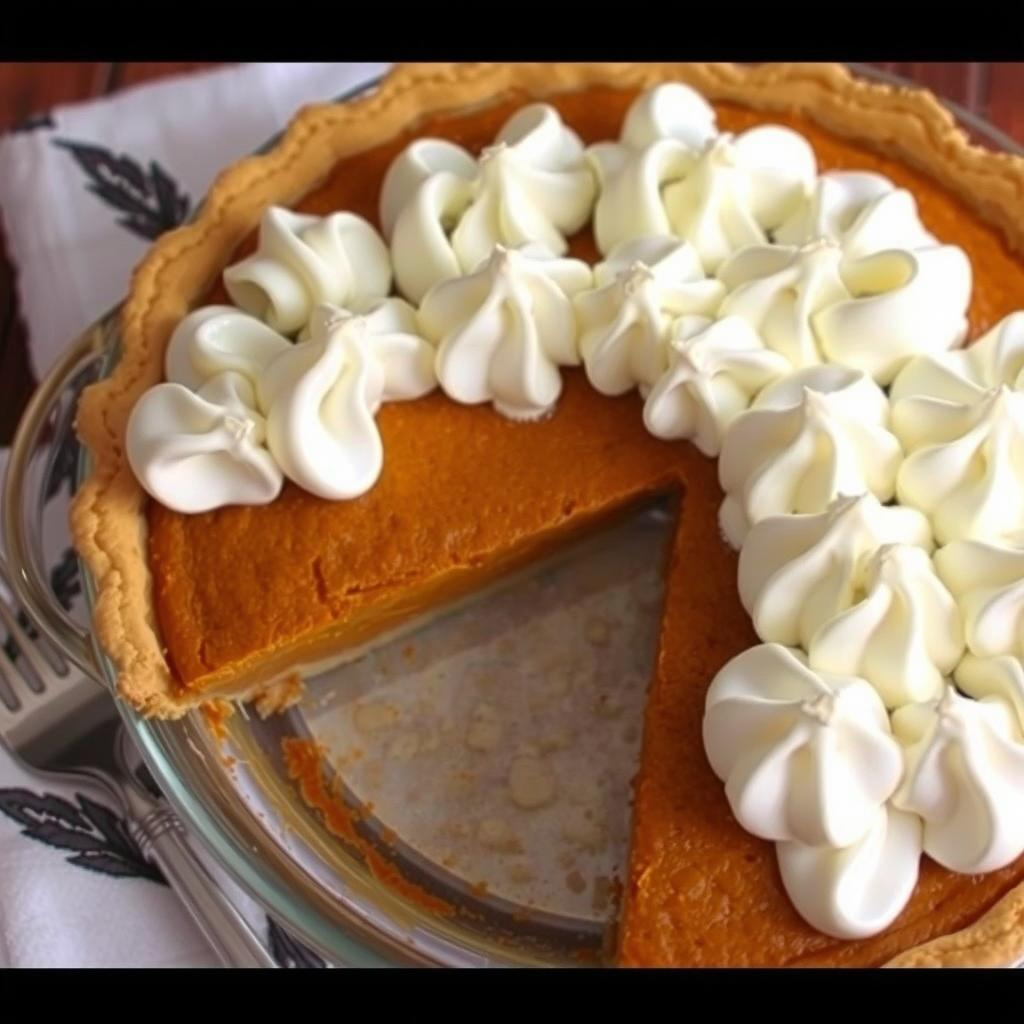pie: (66, 37, 1024, 980)
